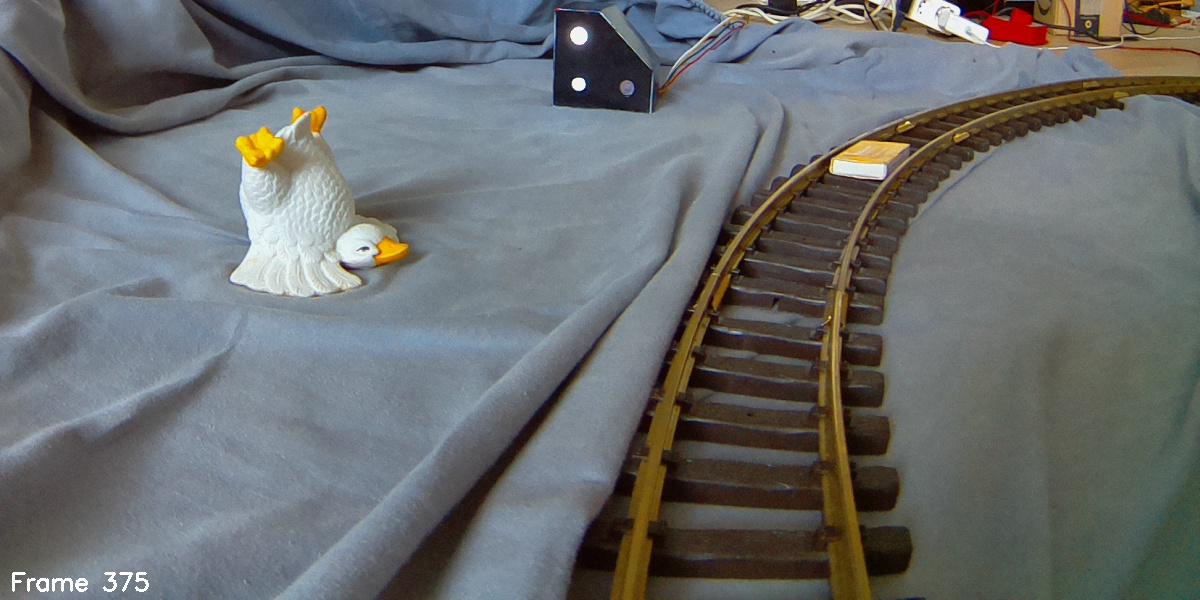Ente: (230, 103, 412, 305)
Fahrt: (553, 4, 656, 114)
